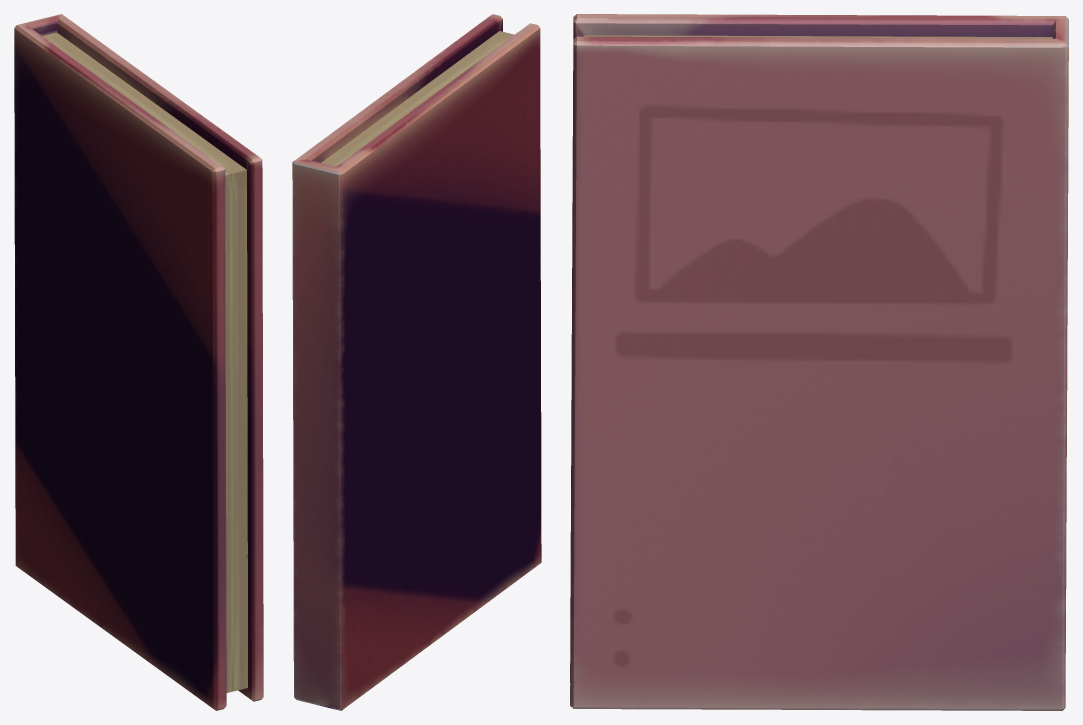
File: Libro_7.fbx
3 views of the same model, side by side, from view 1: azimuth 30°, elevation 25°; view 2: azimuth 150°, elevation 25°; view 3: azimuth 270°, elevation 25° (orthographic). The views are drawn at different scales.
Visible parts, largest first — view 1: Libros 7; view 2: Libros 7; view 3: Libros 7.
Boxes of the visible parts, x1,y1,x2,y2 form: Libros 7: (14,14,263,710); Libros 7: (292,14,541,710); Libros 7: (570,14,1068,710).
Size of the model in its own units: 8.13 by 84.26 by 56.86.
